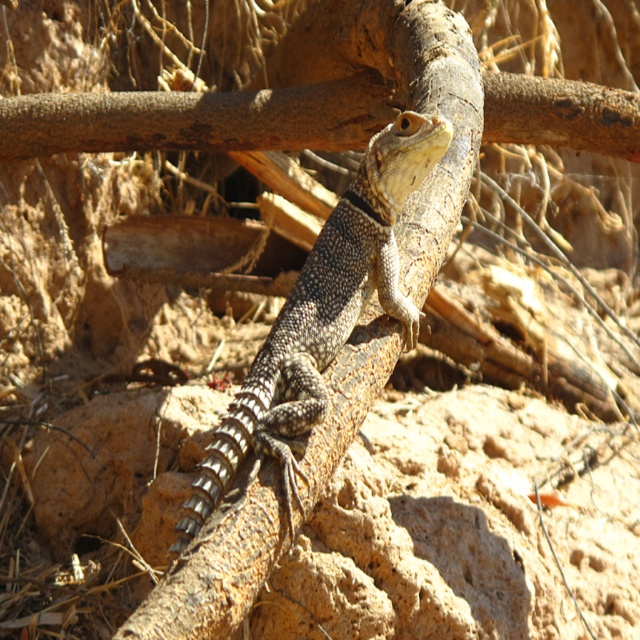Lizard: (165, 111, 453, 561)
